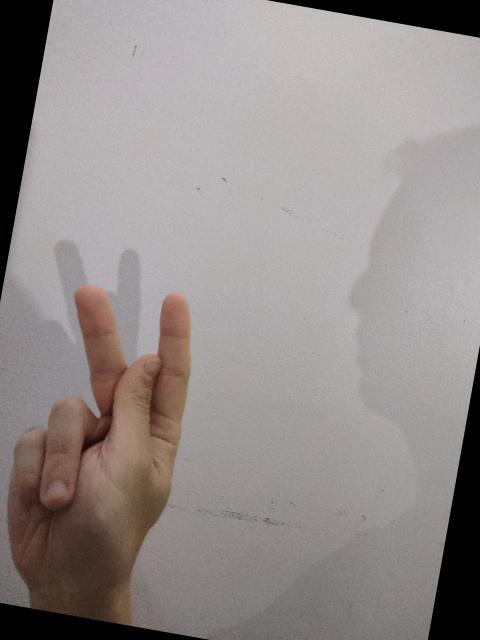K: (0, 264, 212, 621)
